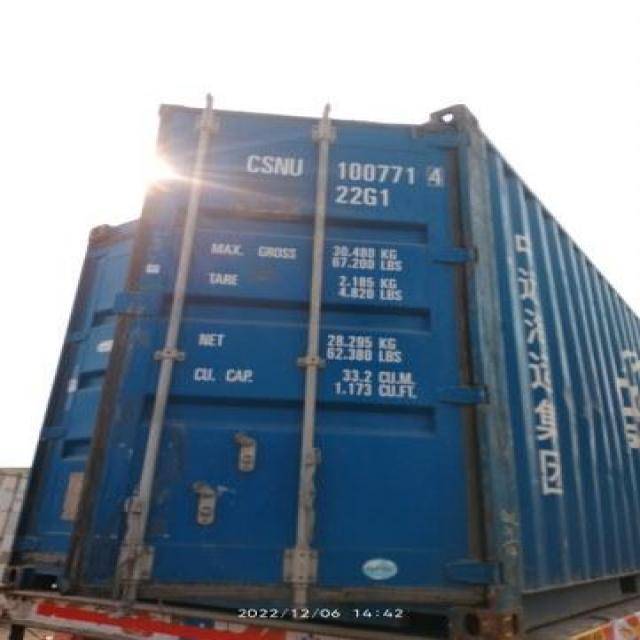container_number_h: (229, 130, 472, 222)
